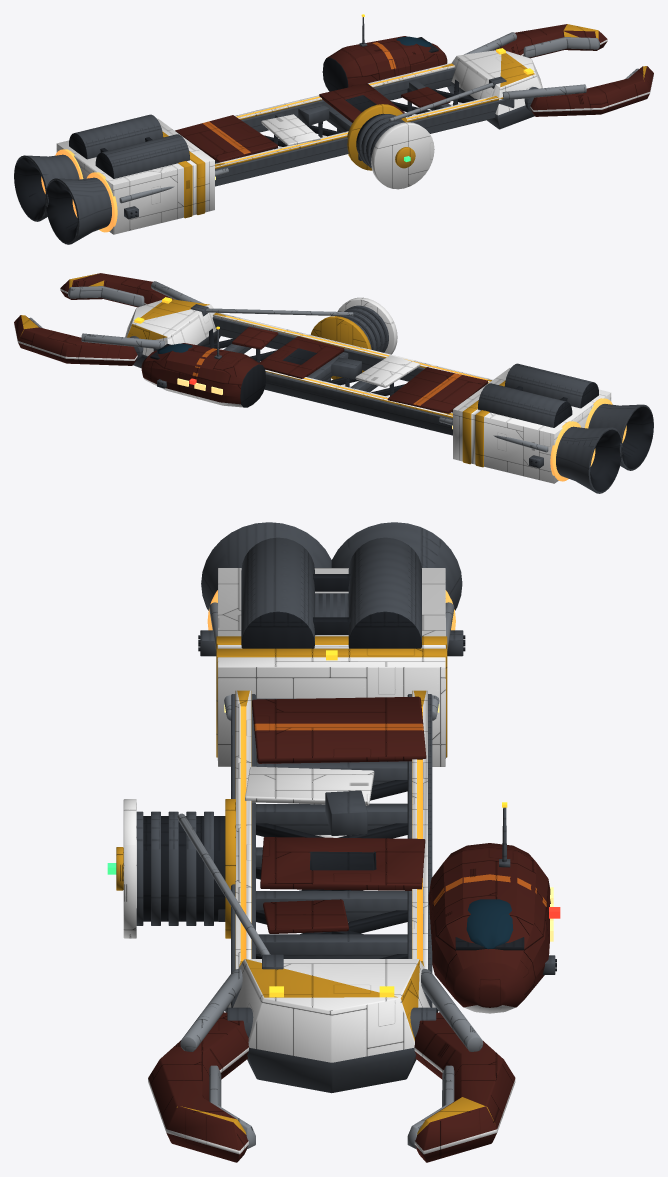
File: ashline_rig_lod1.glb
3 renders of one model, top to bottom at view 1: azimuth 30°, elevation 25°; view 2: azimuth 150°, elevation 25°; view 3: azimuth 270°, elevation 25°, orthographic. The views are drawn at different scales.
Parts seen in each view (by area): view 1: LOD1_MOTION_HULL_CORE_Mechanical, LOD1_MOTION_HULL_CORE_Armor, LOD1_MOTION_HULL_CORE_Hull, LOD1_MOTION_HULL_CORE_MechanicalDark, LOD1_MOTION_HULL_CORE_Warning, LOD1_MOTION_HULL_CORE_BrushedMetal, LOD1_MOTION_HULL_CORE_Lights_Cyan_sodium, LOD1_MOTION_HULL_CORE_HOOK_DRIVE_CORE, LOD1_MOTION_HULL_CORE_Livery; view 2: LOD1_MOTION_HULL_CORE_Mechanical, LOD1_MOTION_HULL_CORE_Hull, LOD1_MOTION_HULL_CORE_Armor, LOD1_MOTION_HULL_CORE_MechanicalDark, LOD1_MOTION_HULL_CORE_Warning, LOD1_MOTION_HULL_CORE_BrushedMetal, LOD1_MOTION_HULL_CORE_HOOK_DRIVE_CORE, LOD1_MOTION_HULL_CORE_Lights_Cyan_sodium, LOD1_MOTION_HULL_CORE_Livery; view 3: LOD1_MOTION_HULL_CORE_Hull, LOD1_MOTION_HULL_CORE_Mechanical, LOD1_MOTION_HULL_CORE_Armor, LOD1_MOTION_HULL_CORE_MechanicalDark, LOD1_MOTION_HULL_CORE_Warning, LOD1_MOTION_HULL_CORE_BrushedMetal, LOD1_MOTION_HULL_CORE_Lights_Cyan_sodium, LOD1_MOTION_HULL_CORE_Livery, LOD1_MOTION_HULL_CORE_CANOPY.
Part boxes in pixels (box(x1,y1,x2,y2)): LOD1_MOTION_HULL_CORE_Mechanical: box(14, 17, 538, 244); LOD1_MOTION_HULL_CORE_Armor: box(56, 39, 653, 234); LOD1_MOTION_HULL_CORE_Hull: box(175, 24, 653, 162); LOD1_MOTION_HULL_CORE_MechanicalDark: box(14, 37, 477, 242); LOD1_MOTION_HULL_CORE_Warning: box(162, 24, 646, 218); LOD1_MOTION_HULL_CORE_BrushedMetal: box(119, 32, 638, 203); LOD1_MOTION_HULL_CORE_Lights_Cyan_sodium: box(224, 67, 485, 163); LOD1_MOTION_HULL_CORE_HOOK_DRIVE_CORE: box(41, 149, 117, 232); LOD1_MOTION_HULL_CORE_Livery: box(202, 42, 395, 154); LOD1_MOTION_HULL_CORE_Mechanical: box(130, 304, 653, 493); LOD1_MOTION_HULL_CORE_Hull: box(14, 273, 487, 413); LOD1_MOTION_HULL_CORE_Armor: box(14, 288, 611, 483); LOD1_MOTION_HULL_CORE_MechanicalDark: box(150, 309, 653, 491); LOD1_MOTION_HULL_CORE_Warning: box(21, 274, 505, 467); LOD1_MOTION_HULL_CORE_BrushedMetal: box(29, 281, 548, 452); LOD1_MOTION_HULL_CORE_HOOK_DRIVE_CORE: box(550, 398, 626, 481); LOD1_MOTION_HULL_CORE_Lights_Cyan_sodium: box(225, 316, 487, 399); LOD1_MOTION_HULL_CORE_Livery: box(192, 348, 461, 405); LOD1_MOTION_HULL_CORE_Hull: box(148, 696, 550, 1162); LOD1_MOTION_HULL_CORE_Mechanical: box(136, 522, 555, 1093); LOD1_MOTION_HULL_CORE_Armor: box(123, 568, 515, 1154); LOD1_MOTION_HULL_CORE_MechanicalDark: box(143, 574, 556, 971); LOD1_MOTION_HULL_CORE_Warning: box(116, 636, 493, 1134); LOD1_MOTION_HULL_CORE_BrushedMetal: box(177, 602, 483, 1148); LOD1_MOTION_HULL_CORE_Lights_Cyan_sodium: box(240, 706, 422, 960); LOD1_MOTION_HULL_CORE_Livery: box(254, 723, 546, 906); LOD1_MOTION_HULL_CORE_CANOPY: box(466, 899, 513, 949).
Size of what is drawn, in the model's own units: 18.36 by 2.9 by 6.15.
Materials: 14 (7 with a texture image).
